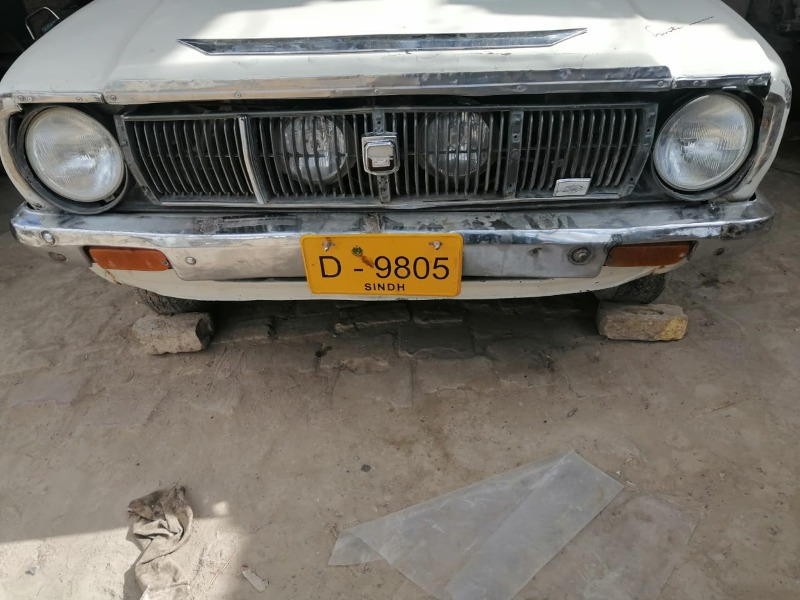License Plate: (300, 233, 466, 305)
